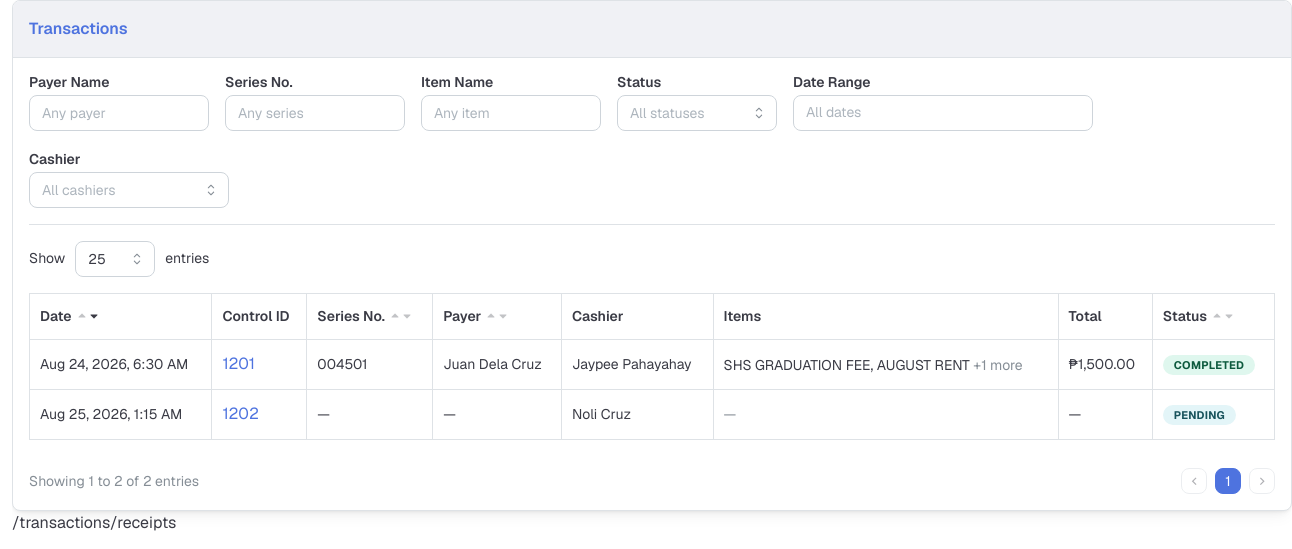
Test: TransactionListPage › opens the transaction whose row was clicked
Click the text "Juan Dela Cruz" at (497, 365), box [433,340,562,390]
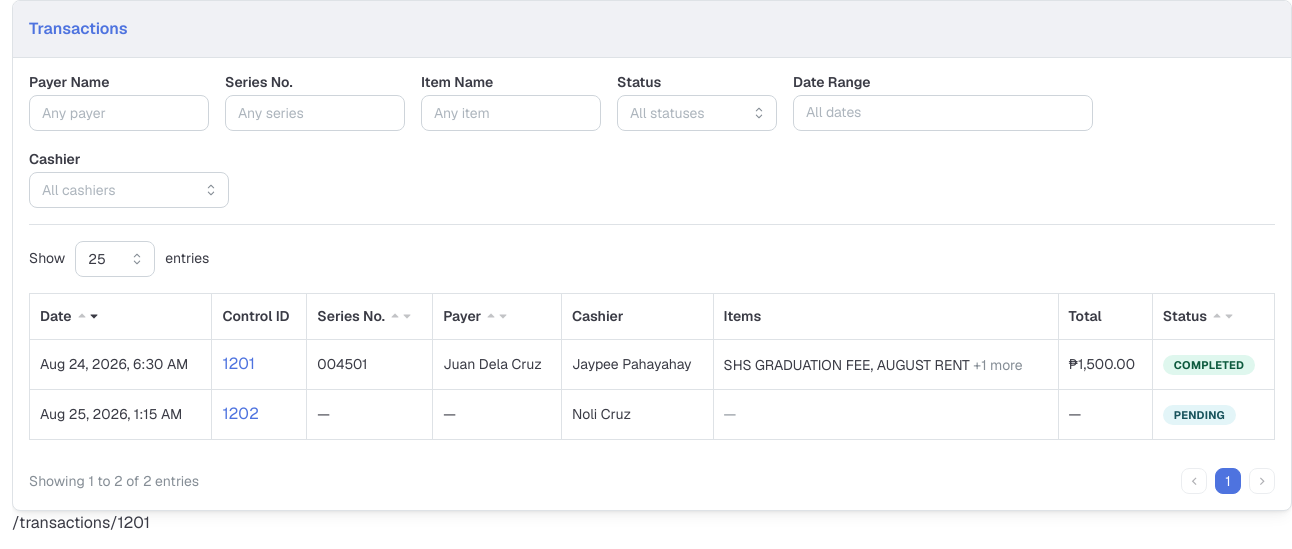
Check: the text with test id "location" reads "/transactions/1201", box [12,512,150,533]
